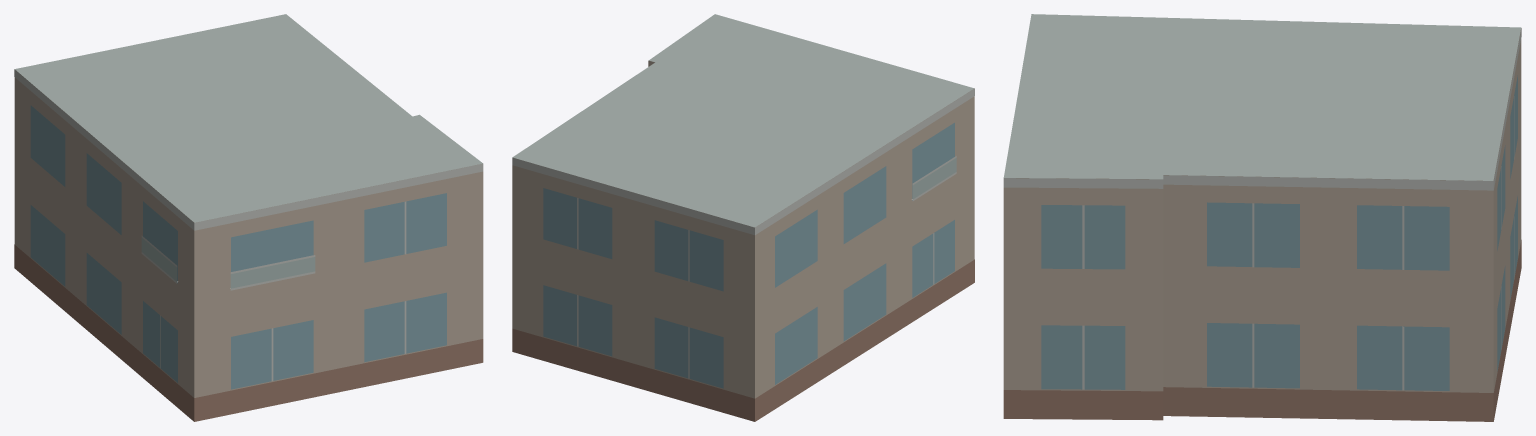
File: survey-upis-32849204.glb
3 renders of one model, left to right at view 1: azimuth 30°, elevation 25°; view 2: azimuth 150°, elevation 25°; view 3: azimuth 270°, elevation 25°, orthographic. The views are drawn at different scales.
Parts seen in each view (by area): view 1: survey-upis-32849204.tmp; view 2: survey-upis-32849204.tmp; view 3: survey-upis-32849204.tmp.
Part boxes in pixels (x1,y1,x2,y2): survey-upis-32849204.tmp: (14, 14, 483, 421); survey-upis-32849204.tmp: (512, 14, 974, 421); survey-upis-32849204.tmp: (1003, 14, 1521, 421).
Bounding box in the file's own units: 9.08 × 6.1 × 11.89.
